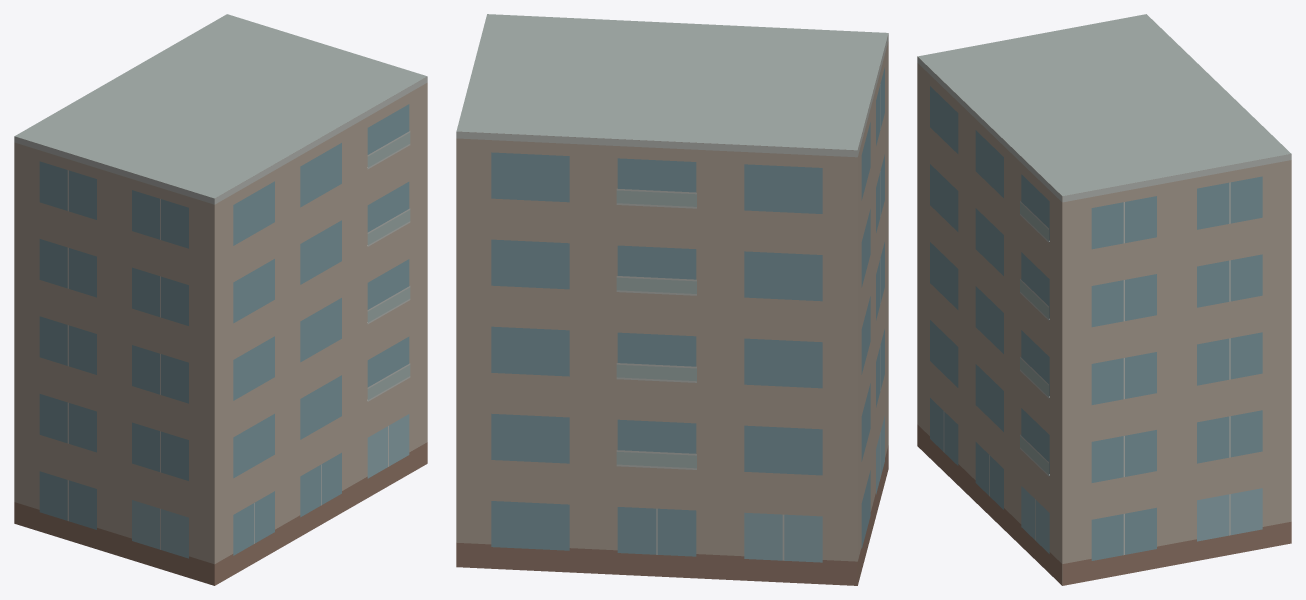
File: residential-6f0fddca-ec37-4970-a5e6-9f557c000c97.glb
The picture shows the model from 3 angles, left to right: view 1: azimuth 30°, elevation 25°; view 2: azimuth 150°, elevation 25°; view 3: azimuth 270°, elevation 25°; orthographic projection. The views are drawn at different scales.
Parts seen in each view (by area): view 1: residential-6f0fddca-ec37-4970-a5e6-9f557c000c97.tmp; view 2: residential-6f0fddca-ec37-4970-a5e6-9f557c000c97.tmp; view 3: residential-6f0fddca-ec37-4970-a5e6-9f557c000c97.tmp.
Part boxes in pixels (x1,y1,x2,y2): residential-6f0fddca-ec37-4970-a5e6-9f557c000c97.tmp: [14, 14, 427, 585]; residential-6f0fddca-ec37-4970-a5e6-9f557c000c97.tmp: [456, 14, 888, 585]; residential-6f0fddca-ec37-4970-a5e6-9f557c000c97.tmp: [917, 14, 1291, 585].
Size of the model in its own units: 15.31 by 15.25 by 13.28.
